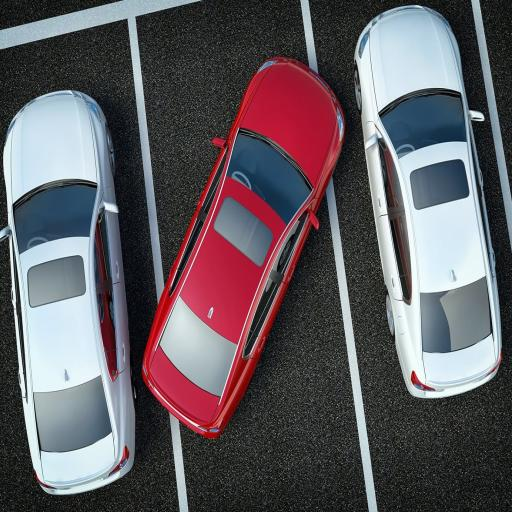Illegal-parking: (130, 14, 350, 512)
Slot-occupied: (323, 2, 511, 420), (0, 36, 162, 505)
